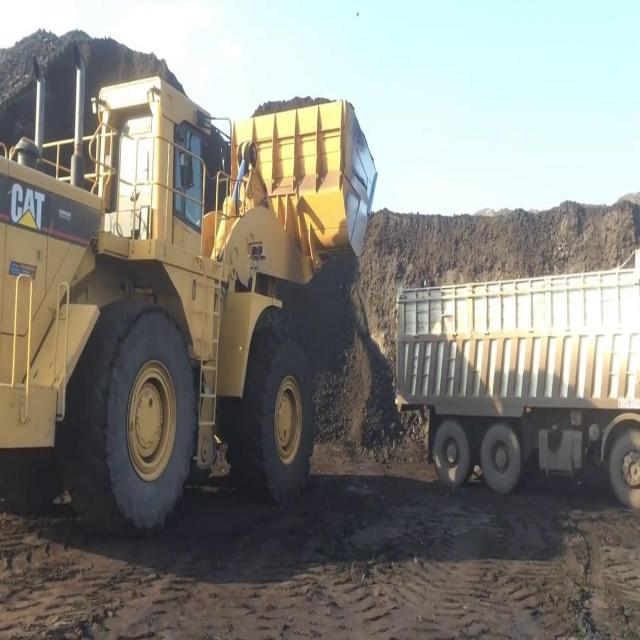Dump Truck: (392, 243, 640, 513)
Loader: (0, 48, 378, 548)
